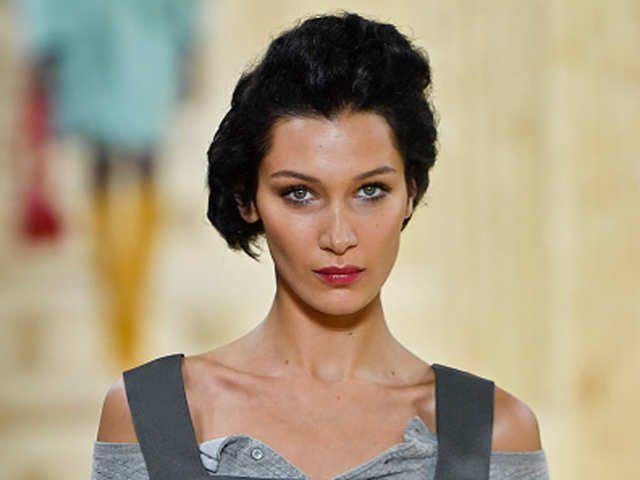Sober: (267, 130, 403, 307)
